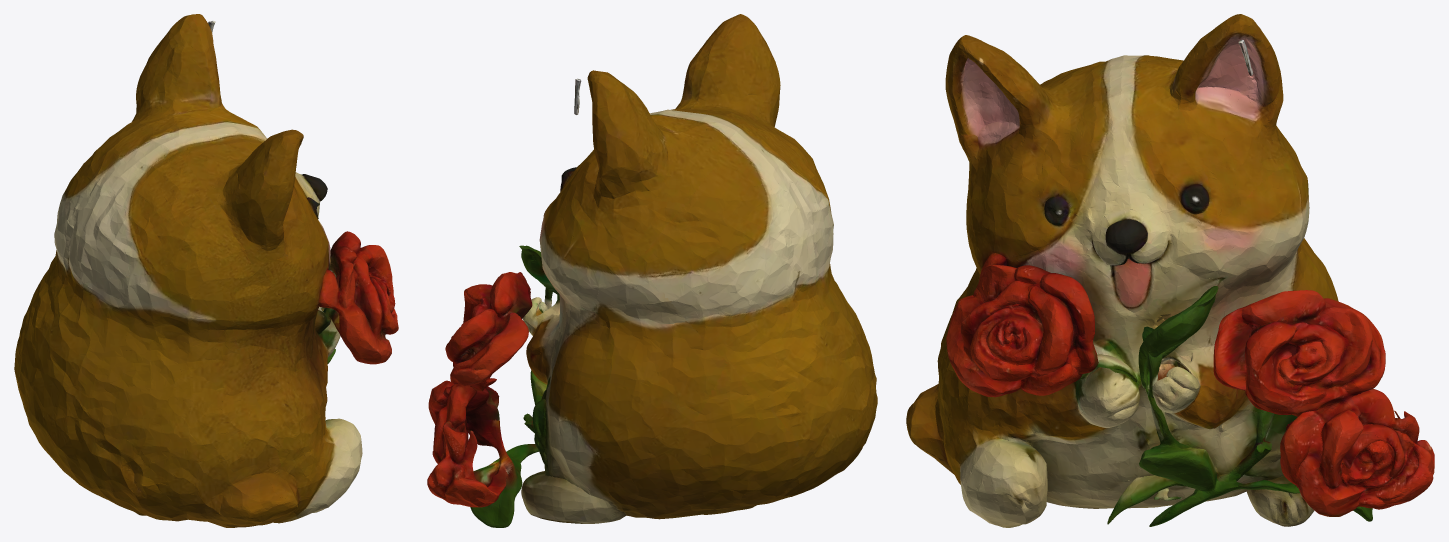
The model's file is Floral_Corgi_Joy_0725070325_generateglb-optimized.glb.
3 renders of one model, left to right at view 1: azimuth 30°, elevation 25°; view 2: azimuth 150°, elevation 25°; view 3: azimuth 270°, elevation 25°, orthographic. The views are drawn at different scales.
Visible parts, largest first — view 1: tripo_node_8954246e-f478-45fb-95f2-a3b84dbbc469; view 2: tripo_node_8954246e-f478-45fb-95f2-a3b84dbbc469; view 3: tripo_node_8954246e-f478-45fb-95f2-a3b84dbbc469.
Boxes of the visible parts, box(x1,y1,x2,y2) form: tripo_node_8954246e-f478-45fb-95f2-a3b84dbbc469: box(14, 14, 398, 527); tripo_node_8954246e-f478-45fb-95f2-a3b84dbbc469: box(427, 14, 877, 527); tripo_node_8954246e-f478-45fb-95f2-a3b84dbbc469: box(906, 14, 1434, 527).
Size of the model in its own units: 0.7886 by 1 by 0.961.
1 material, 1 textured.
